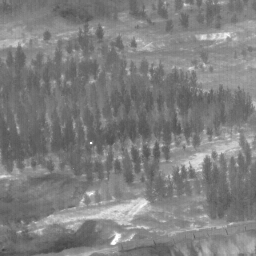aircraft: (90, 142, 92, 144)
